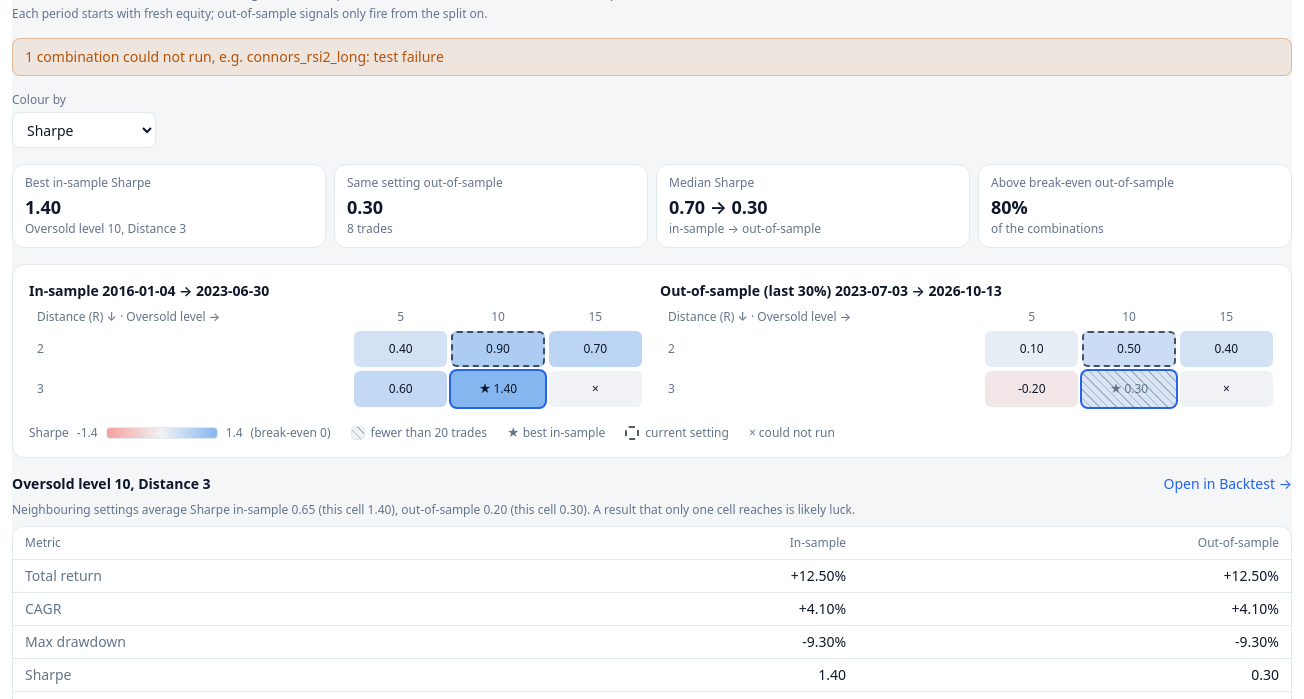
Test: SweepPage › shows both periods on one scale and the best in-sample cell's details
(page scrolled)
Check: the button "0.90" is shown, box 451,331 -> 545,367
Check: the button named "Oversold level 15, Distance 3: could not run (connors_rsi2_long: test failure)" reads "×", box 549,371 -> 642,407
Click the button named "Oversold level 5, Distance 2". click: click(1032, 349)
box: 985,331 -> 1078,367
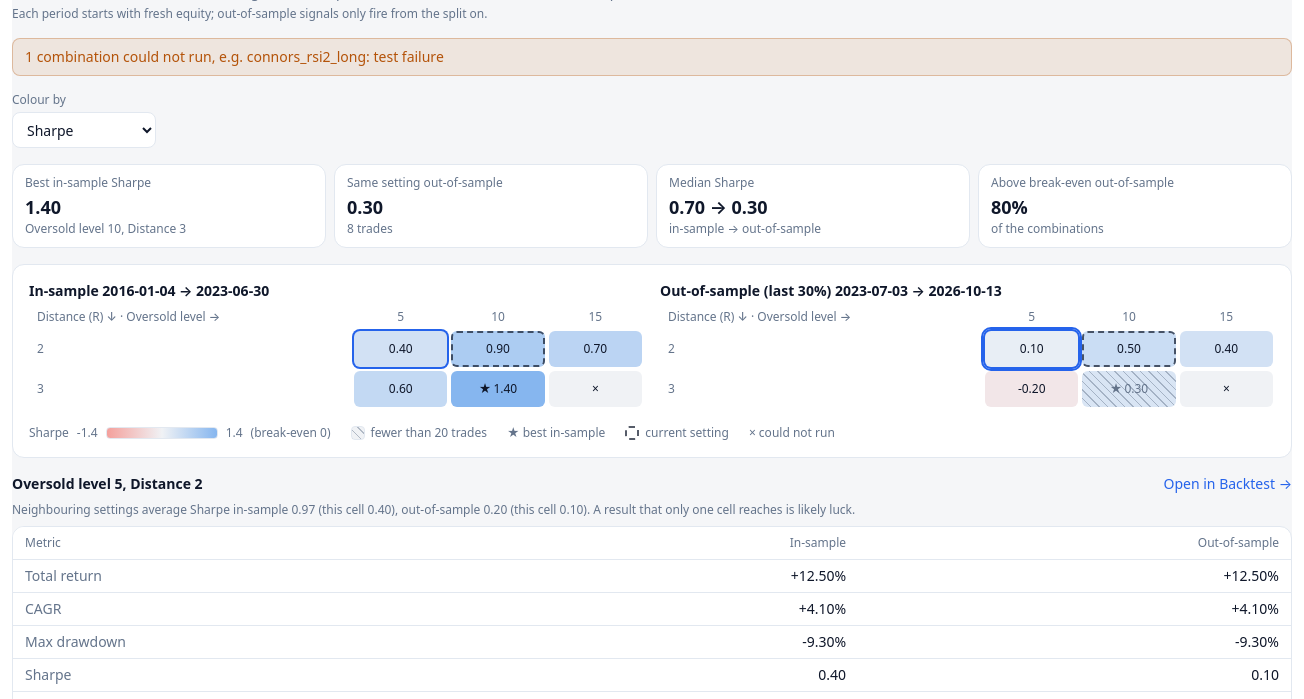
Check: the heading "Oversold level 5, Distance 2" is shown, box 12,474 -> 203,494
